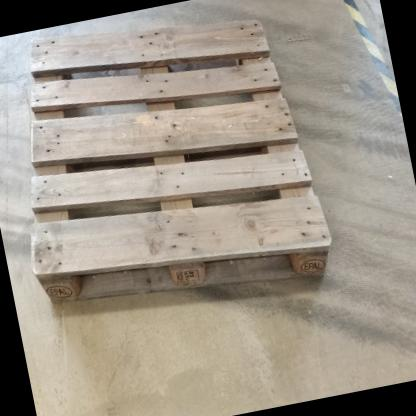BoxFace: (19, 10, 337, 317)
